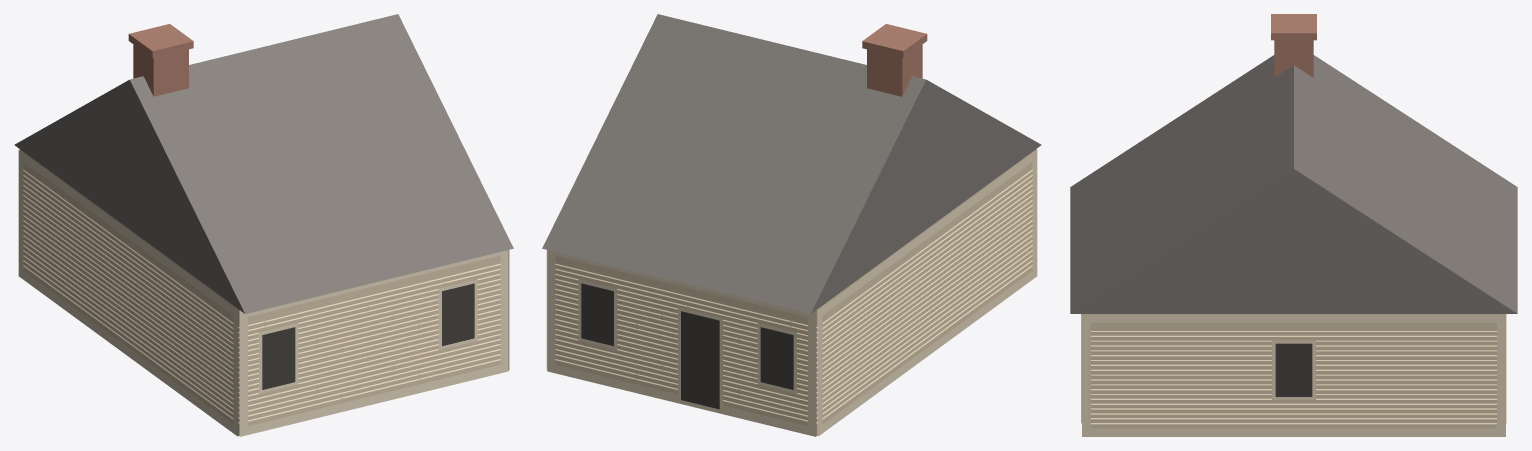
Rendered from recon_1835_blk_randolph_dearborn_d5_02__inferred_1835.glb.
3 views of the same model, side by side, from view 1: azimuth 30°, elevation 25°; view 2: azimuth 150°, elevation 25°; view 3: azimuth 270°, elevation 25° (orthographic). The views are drawn at different scales.
Visible parts, largest first — view 1: recon_1835_blk_randolph_dearborn_d5_02__inferred_1835; view 2: recon_1835_blk_randolph_dearborn_d5_02__inferred_1835; view 3: recon_1835_blk_randolph_dearborn_d5_02__inferred_1835.
Part boxes in pixels (<box>): recon_1835_blk_randolph_dearborn_d5_02__inferred_1835: <box>14,14,513,436</box>; recon_1835_blk_randolph_dearborn_d5_02__inferred_1835: <box>542,14,1041,436</box>; recon_1835_blk_randolph_dearborn_d5_02__inferred_1835: <box>1070,14,1517,436</box>.
Size of the model in its own units: 6.47 by 7.07 by 9.53.
